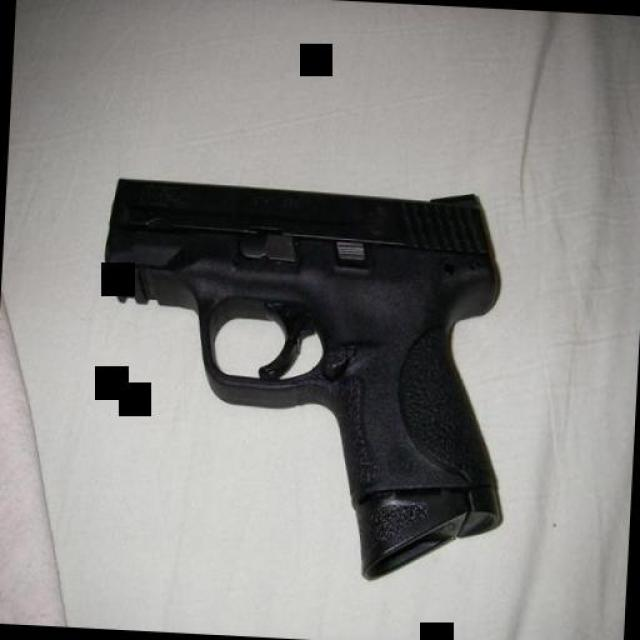gun: (82, 168, 522, 592)
